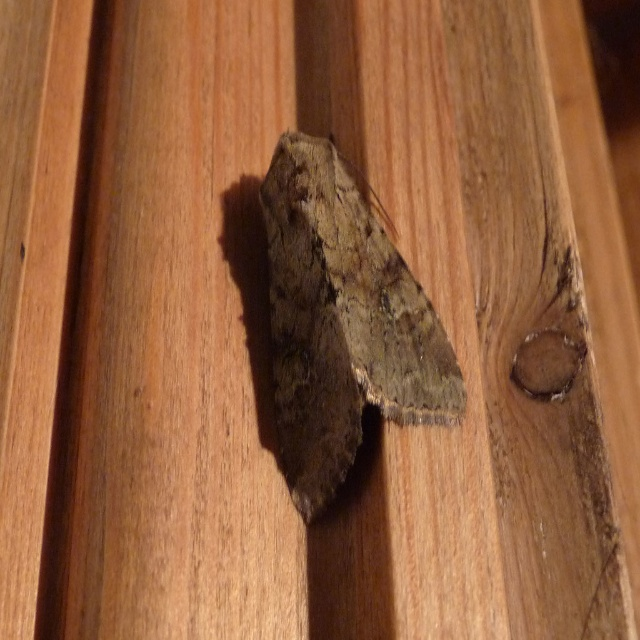Moths and butterflies: (257, 126, 461, 526)
